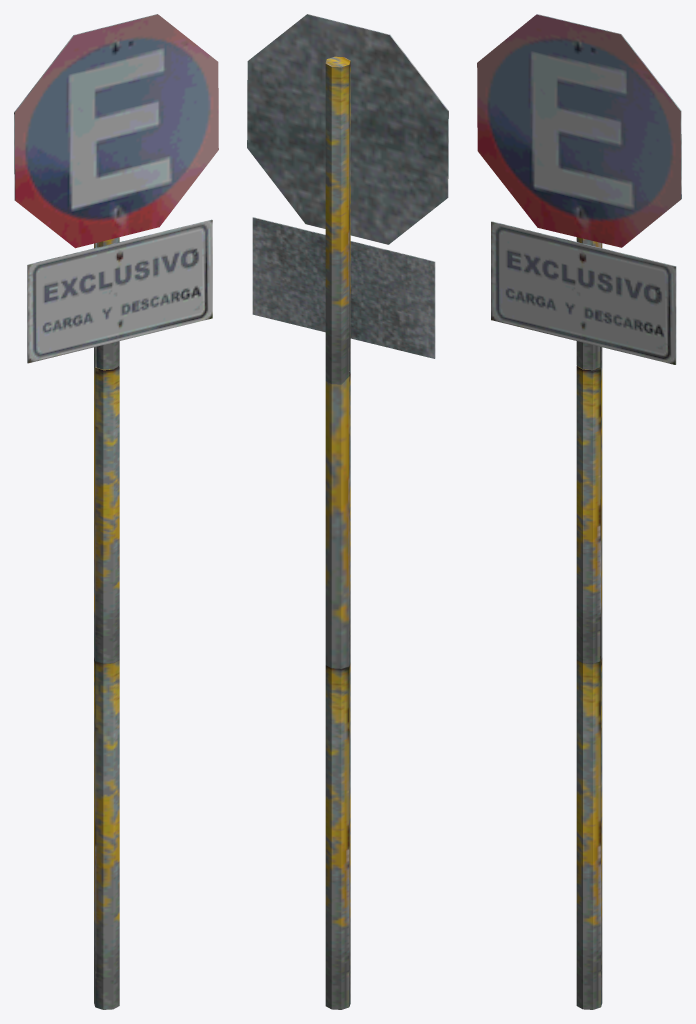
Rendered from estacionamiento exclusivo_Cartel02.fbx.
The picture shows the model from 3 angles, left to right: view 1: azimuth 30°, elevation 25°; view 2: azimuth 150°, elevation 25°; view 3: azimuth 330°, elevation 25°; orthographic projection.
Parts seen in each view (by area): view 1: Cylinder.004; view 2: Cylinder.004; view 3: Cylinder.004.
Part boxes in pixels (x1,y1,x2,y2): Cylinder.004: (14, 14, 218, 1009); Cylinder.004: (247, 14, 448, 1009); Cylinder.004: (477, 14, 681, 1009).
Size of the model in its own units: 1.69 by 7.81 by 0.2417.
